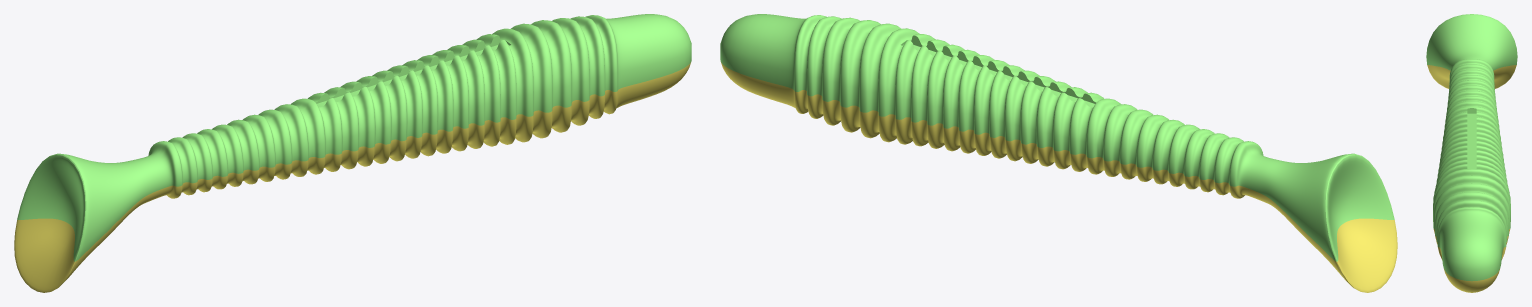
3 renders of one model, left to right at view 1: azimuth 30°, elevation 25°; view 2: azimuth 150°, elevation 25°; view 3: azimuth 270°, elevation 25°, orthographic. The views are drawn at different scales.
Parts seen in each view (by area): view 1: Cube.001; view 2: Cube.001; view 3: Cube.001.
Boxes of the visible parts, x1,y1,x2,y2 form: Cube.001: [14, 14, 691, 292]; Cube.001: [720, 14, 1397, 292]; Cube.001: [1426, 14, 1517, 292].
Size of the model in its own units: 2.64 by 0.5312 by 0.4127.
